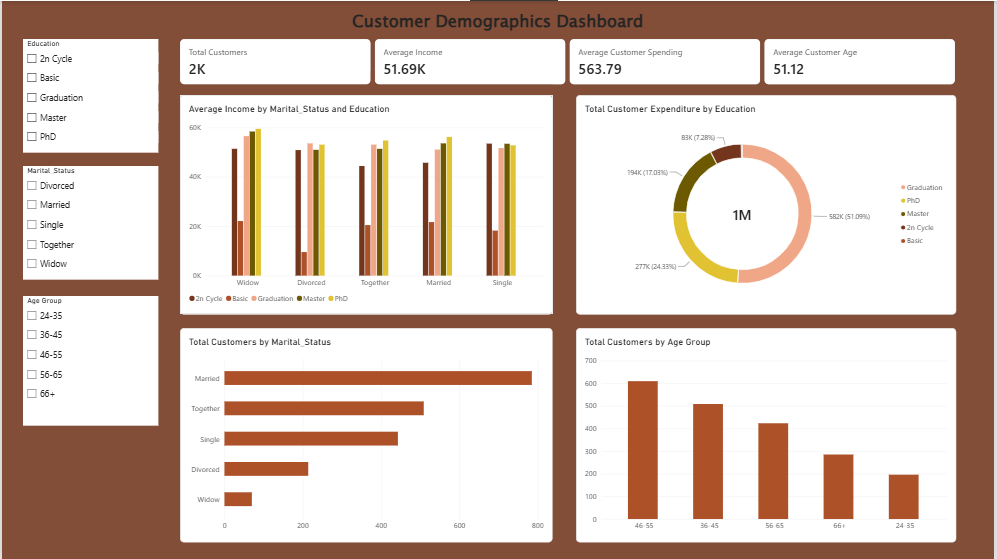

The dashboard page shown, as its layout file describes it:
{"tool":"powerbi","page":{"name":"Customer Overview","canvas":[1920,1080],"ordinal":0},"visuals":[{"type":"cardVisual","fields":{"Data":["Marketing.Total Customers","Marketing.Average Income","Marketing.Average Customer Spending","Marketing.Average Customer Age"]},"box":[344.3,73.8,1503.3,88.5],"z":0},{"type":"clusteredColumnChart","fields":{"Category":["Marketing.Marital_Status"],"Series":["Marketing.Education"],"Y":["Marketing.Average Income"]},"box":[344.3,182,721.3,424.6],"z":1000},{"type":"donutChart","fields":{"Category":["Marketing.Education"],"Y":["Marketing.Total Customer Expenditure"]},"box":[1111.5,182,736.1,424.6],"z":2000},{"type":"barChart","fields":{"Category":["Marketing.Marital_Status"],"Y":["Marketing.Total Customers"]},"box":[344.3,632.8,721.3,414.8],"z":3000},{"type":"columnChart","fields":{"Category":["Marketing.Age Group"],"Y":["Marketing.Total Customers"]},"box":[1111.5,632.8,736.1,414.8],"z":4000},{"type":"slicer","fields":{"Values":["Marketing.Education"]},"box":[41,73.8,262.3,219.7],"z":4001},{"type":"slicer","fields":{"Values":["Marketing.Age Group"]},"box":[41,570.5,262.3,250.8],"z":4002},{"type":"slicer","fields":{"Values":["Marketing.Marital_Status"]},"box":[41,319.7,262.3,219.7],"z":4003},{"type":"textbox","box":[0,14.8,1919.7,59],"z":4004}]}

Visuals, with their boxes in screenshot pixels (x1, y1, x2, y2), scaled from the page's 1920x1080 canvas onto the 997x559 screenshot:
cardVisual - Marketing.Total Customers x Marketing.Average Income: 179,38,959,84
clusteredColumnChart - Marketing.Marital_Status x Marketing.Education: 179,94,553,314
donutChart - Marketing.Education x Marketing.Total Customer Expenditure: 577,94,959,314
barChart - Marketing.Marital_Status x Marketing.Total Customers: 179,328,553,542
columnChart - Marketing.Age Group x Marketing.Total Customers: 577,328,959,542
slicer - Marketing.Education: 21,38,157,152
slicer - Marketing.Age Group: 21,295,157,425
slicer - Marketing.Marital_Status: 21,165,157,279
textbox: 0,8,996,38
